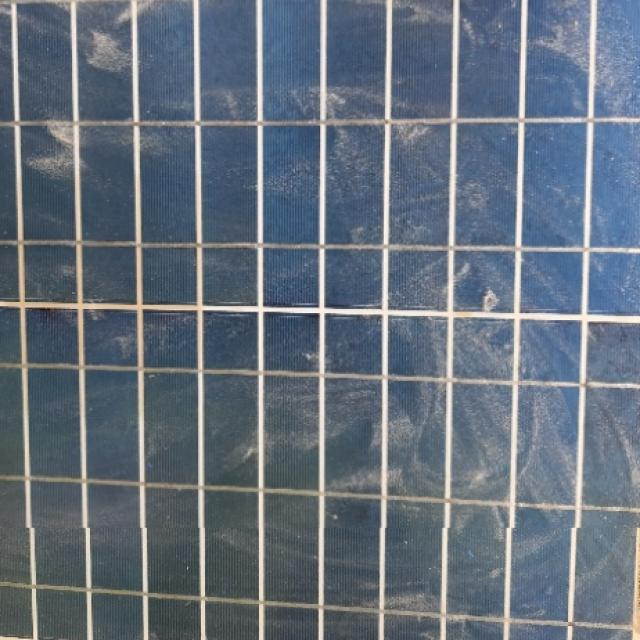Dirty: (0, 0, 640, 528)
